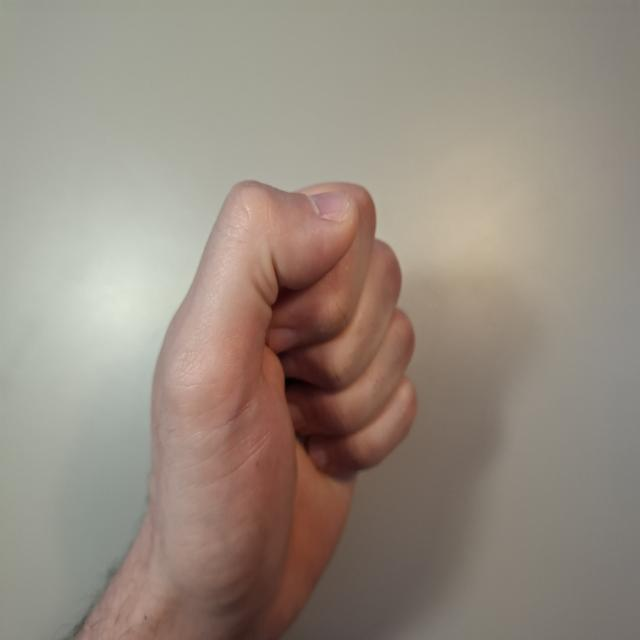glove_off: (147, 176, 421, 632)
